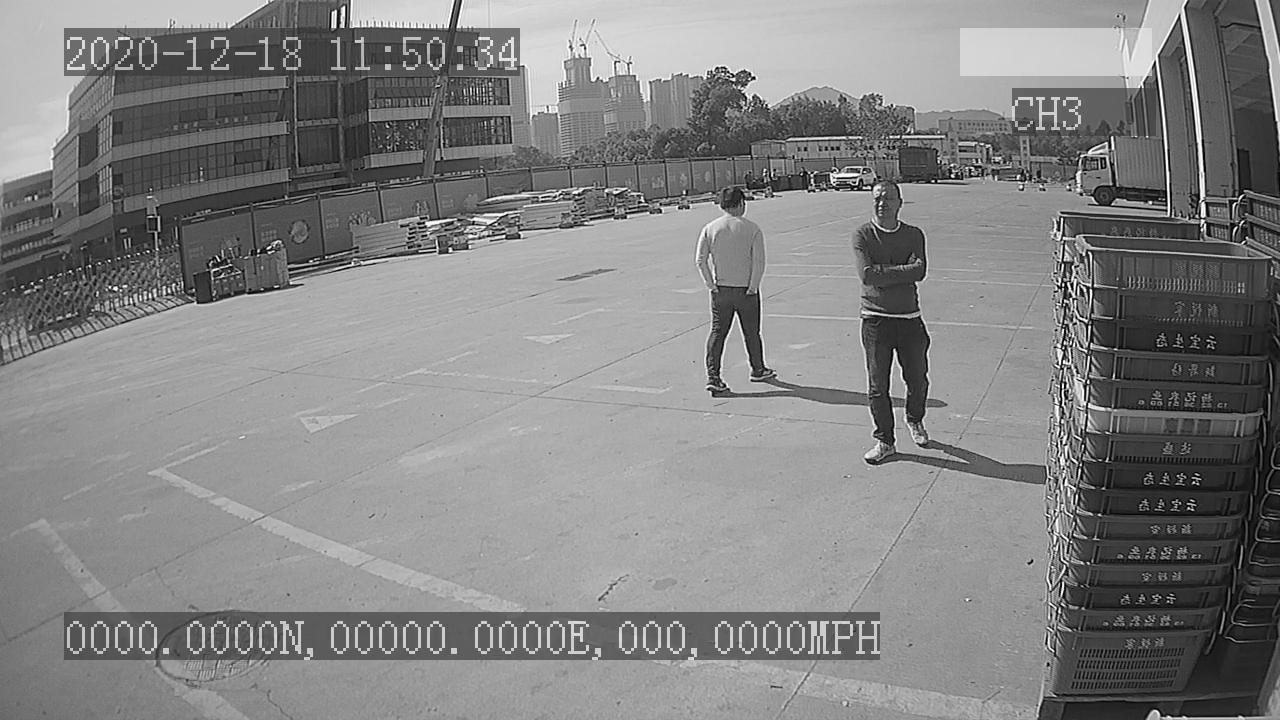person: (847, 176, 938, 470), (690, 181, 781, 399)
